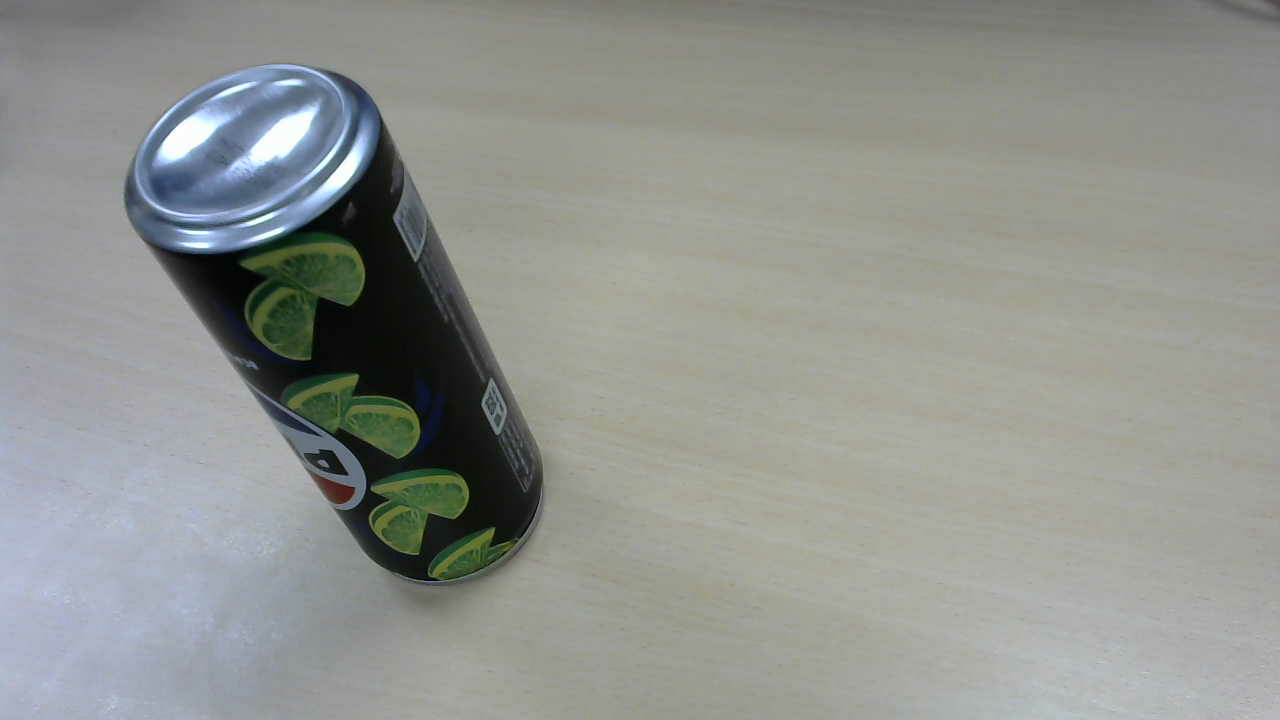Pepsi: (130, 65, 549, 589)
